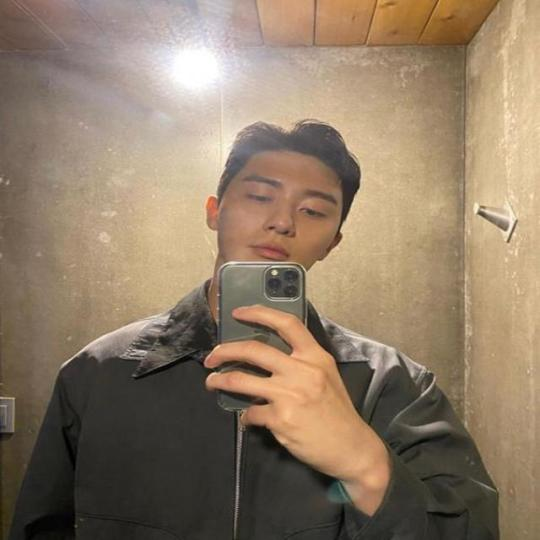phone: (212, 259, 318, 425)
